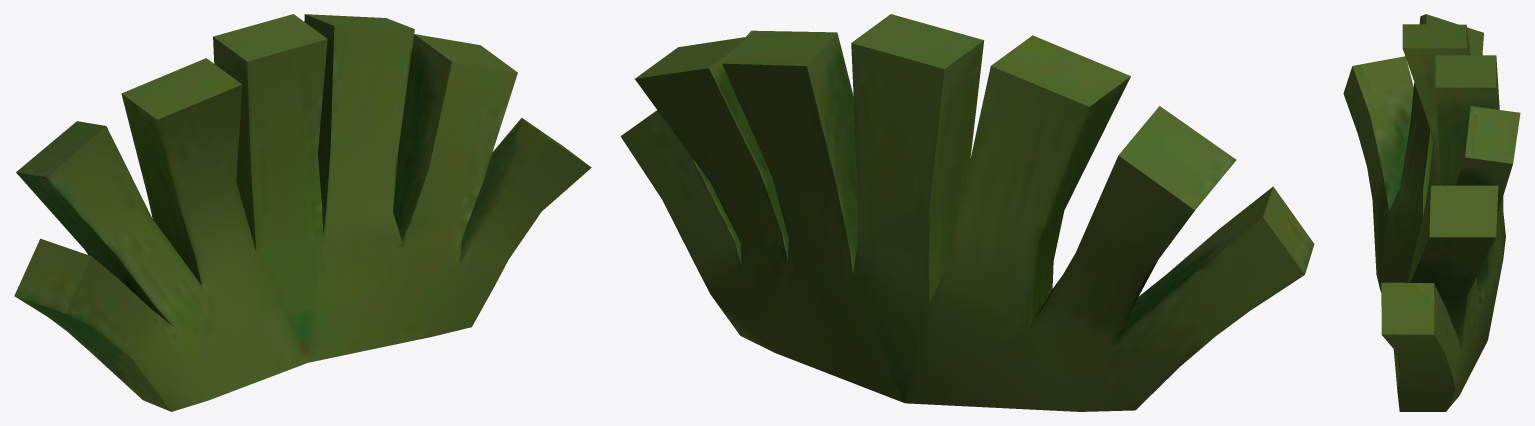
Rendered from FOL_Grass_03.obj.
3 views of the same model, side by side, from view 1: azimuth 30°, elevation 25°; view 2: azimuth 150°, elevation 25°; view 3: azimuth 270°, elevation 25° (orthographic). The views are drawn at different scales.
Visible parts, largest first — view 1: FOL_Grass_03; view 2: FOL_Grass_03; view 3: FOL_Grass_03.
Boxes of the visible parts, <box> form: FOL_Grass_03: <box>14,14,591,411</box>; FOL_Grass_03: <box>620,14,1314,411</box>; FOL_Grass_03: <box>1343,14,1520,411</box>.
Size of the model in its own units: 1.18 by 0.6029 by 0.3572.
Materials: 1 (1 with a texture image).
